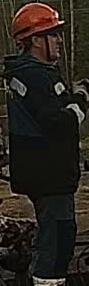gloves: (70, 77, 89, 109)
helmet: (10, 2, 65, 40)
vest: (4, 58, 80, 196)
